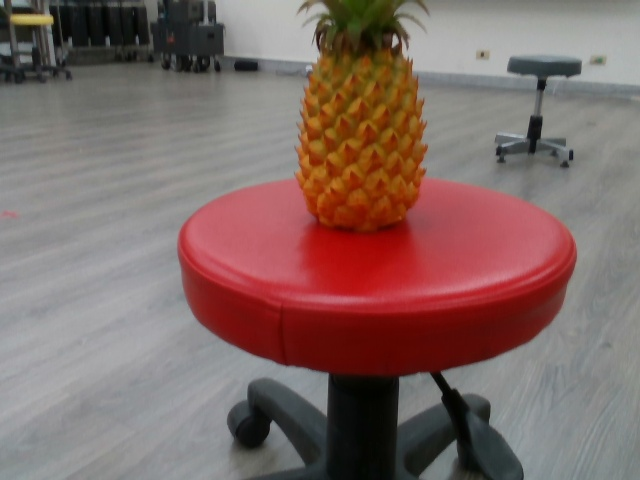pineapple: (290, 2, 431, 234)
